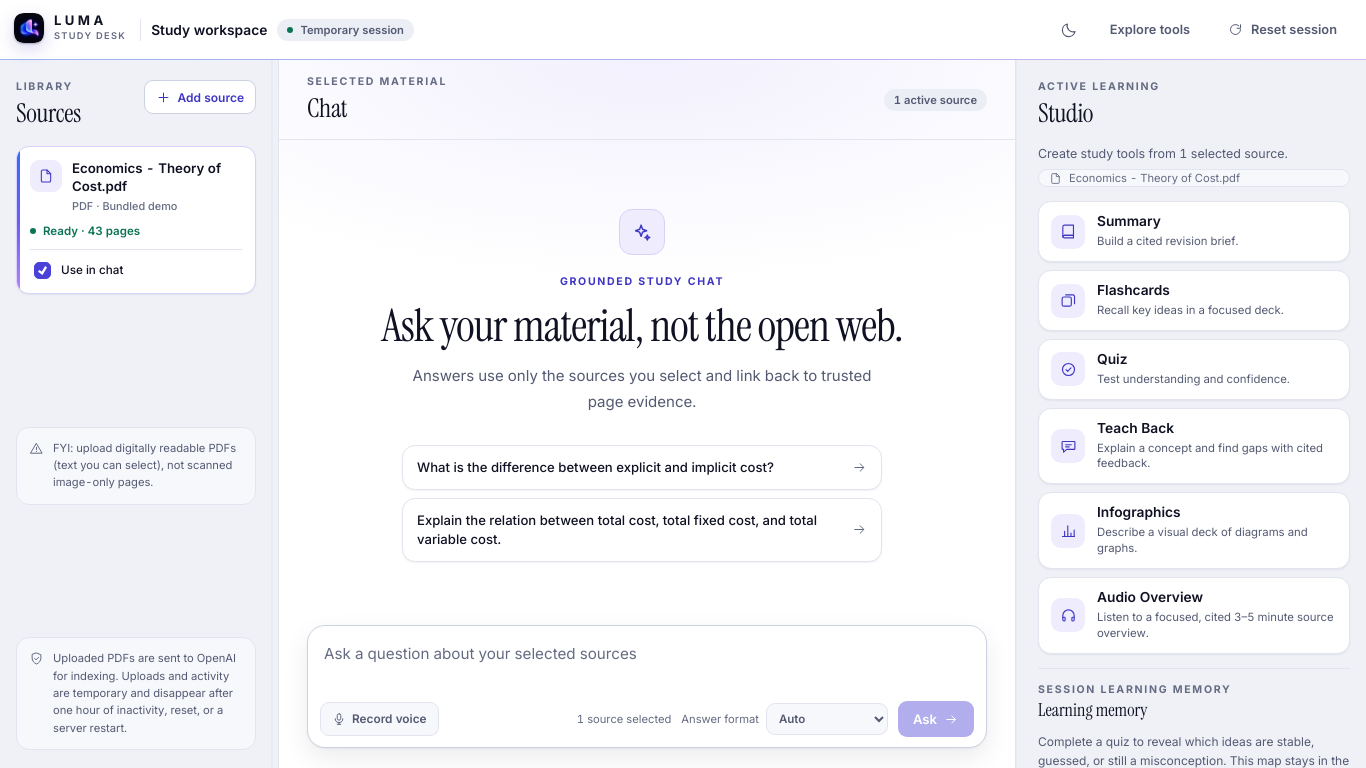
WorkspacePage › shows a compact Go interactive tip under a cited circuit answer
Expected: the heading "Chat" is shown, [307,91,347,125]
Step 1. Type "How does current change in an RC circuit?" into the text box named "Ask your selected sources" → (647, 667), box [320,638,974,697]
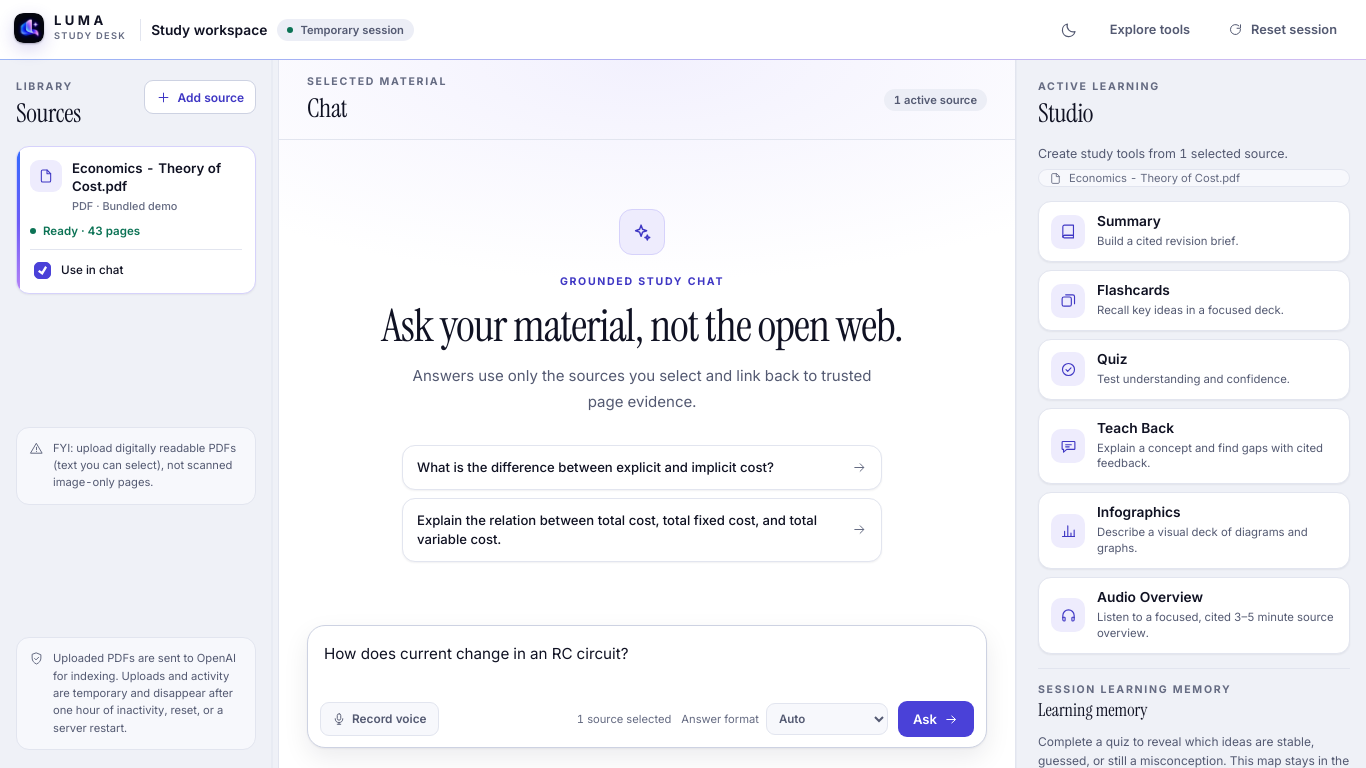
Step 2. Click the button "Ask" → click(936, 719), box [898,701,974,737]
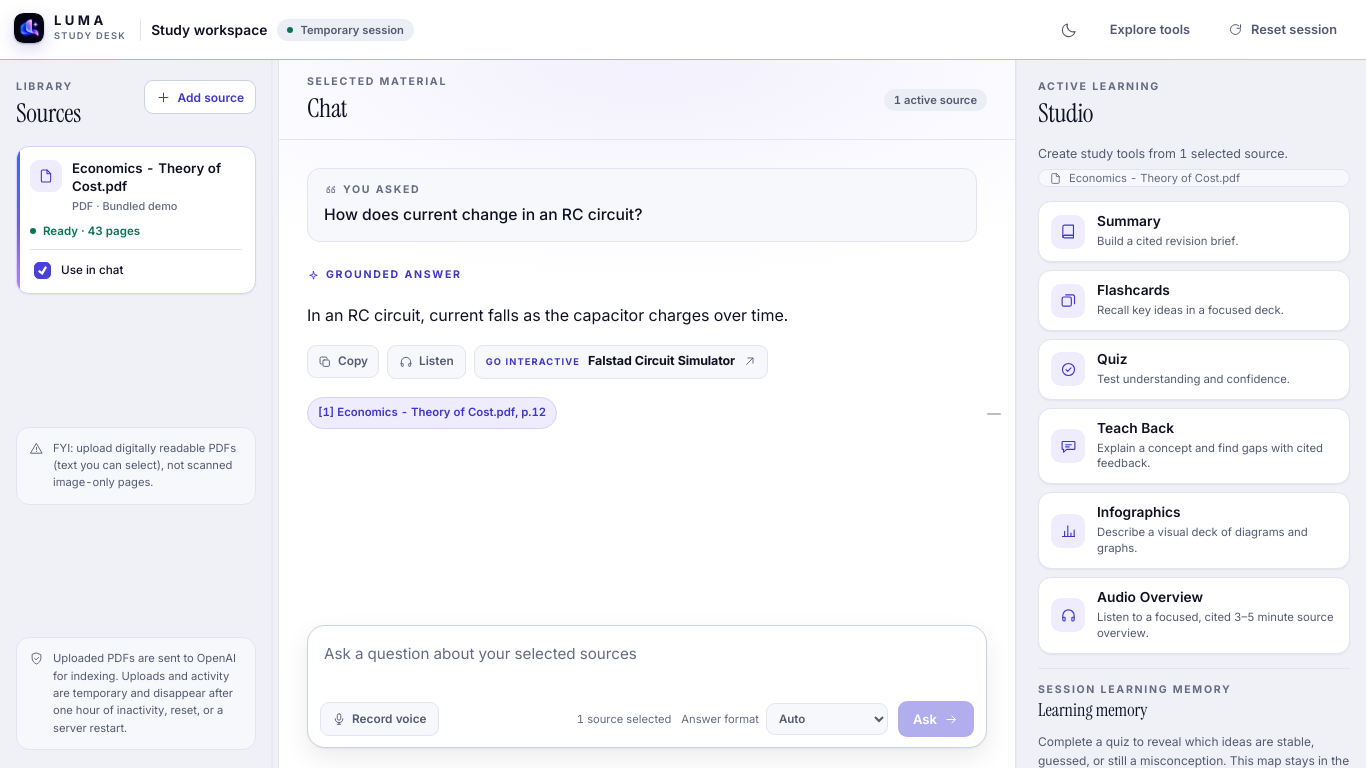
Now the link "Go interactive Falstad Circuit Simulator" is shown, box [474,345,768,379]
